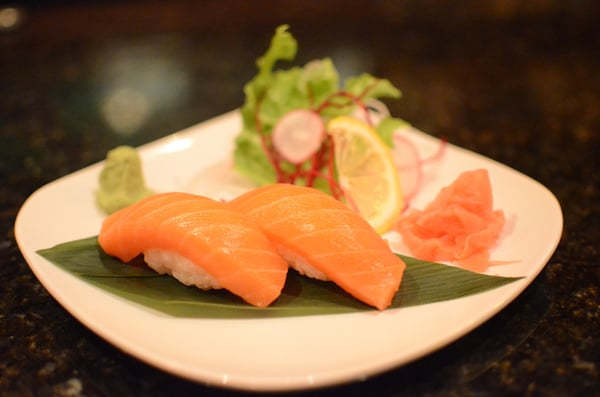taco: (325, 115, 405, 237)
